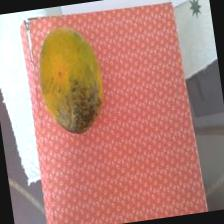Orange Rotten: (30, 15, 116, 145)
